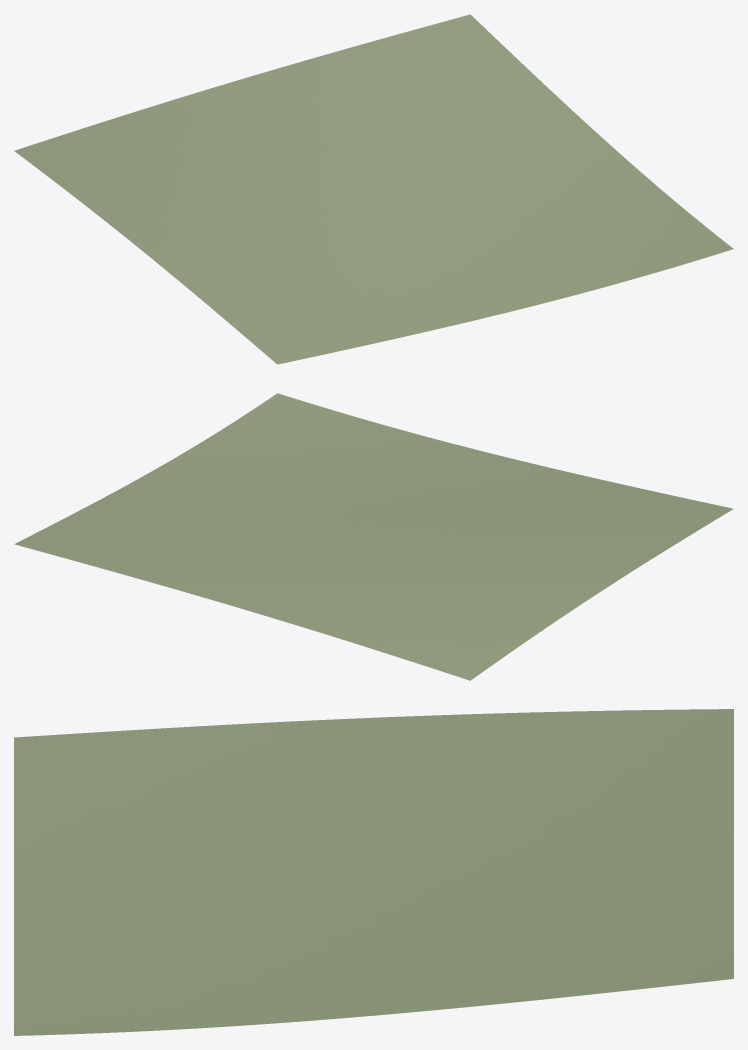
Rendered from alpine-10-14.glb.
3 views of the same model, one above another, from view 1: azimuth 30°, elevation 25°; view 2: azimuth 150°, elevation 25°; view 3: azimuth 270°, elevation 25° (orthographic). The views are drawn at different scales.
Visible parts, largest first — view 1: alpine-10-14; view 2: alpine-10-14; view 3: alpine-10-14.
Boxes of the visible parts, left/top/right/bottom form: alpine-10-14: left=14, top=14, right=733, bottom=364; alpine-10-14: left=14, top=393, right=733, bottom=680; alpine-10-14: left=14, top=709, right=733, bottom=1035.
Size of the model in its own units: 256 by 26.81 by 256.
